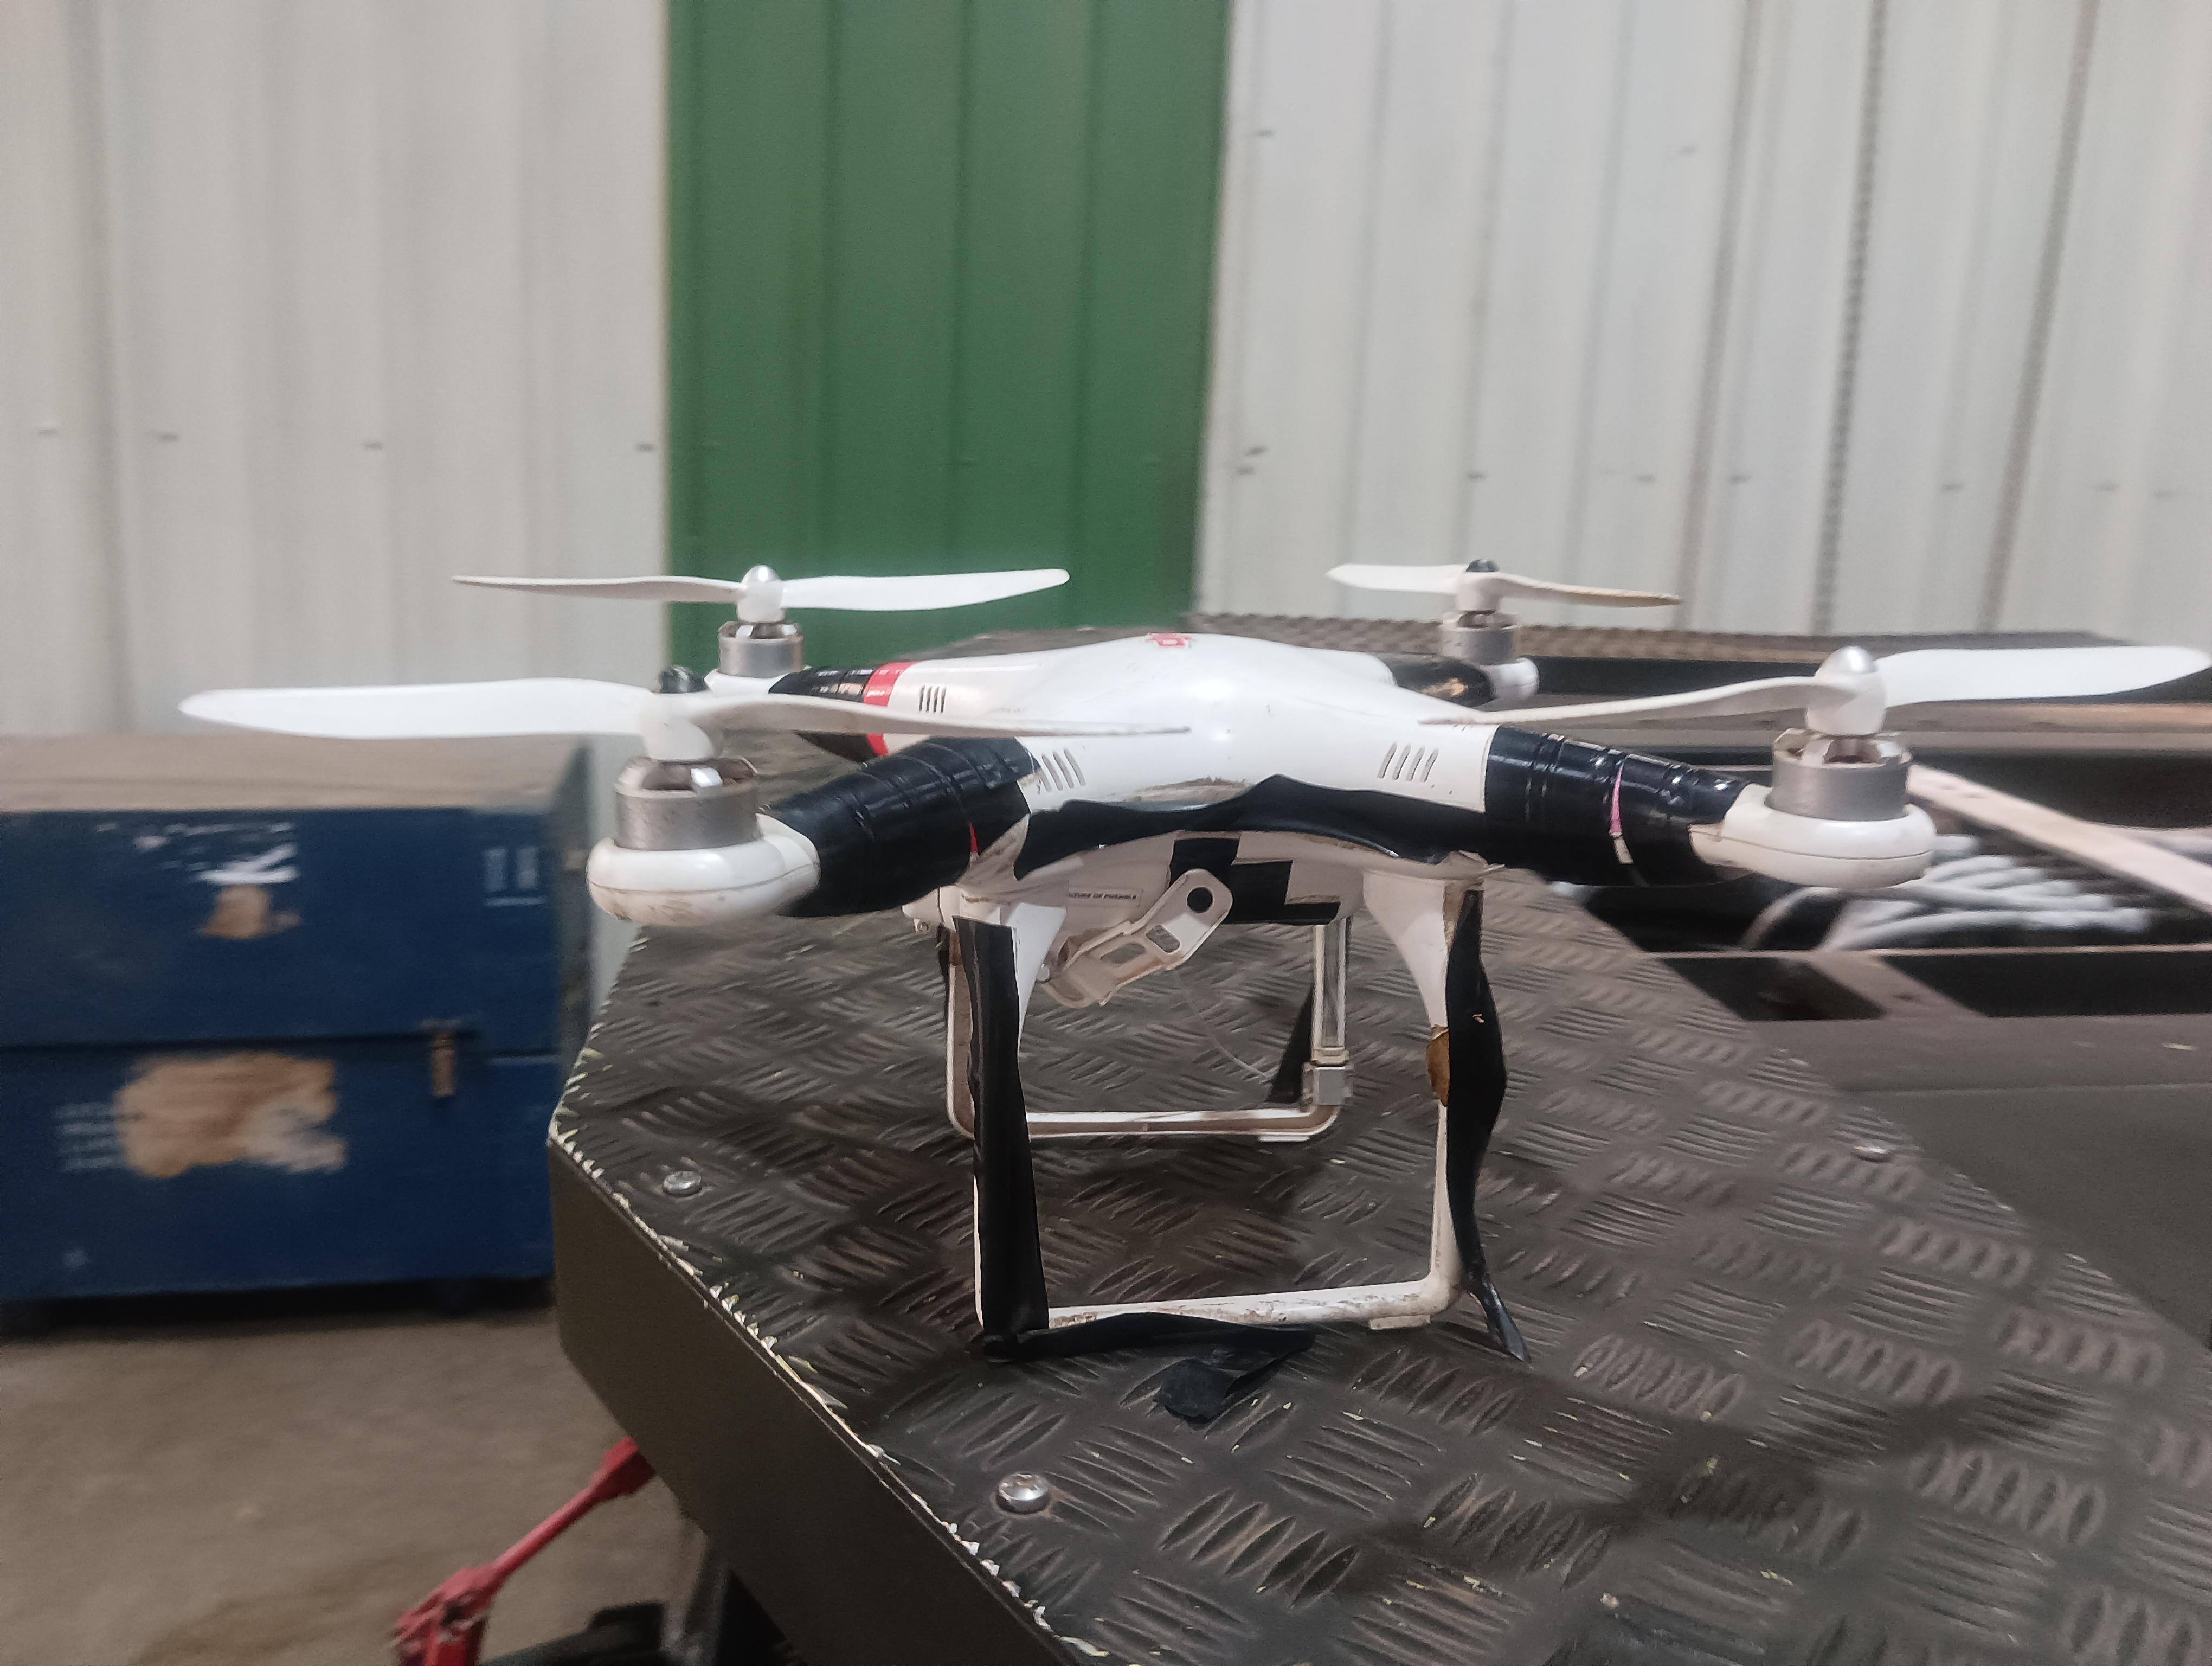drone: (170, 555, 2212, 1362)
